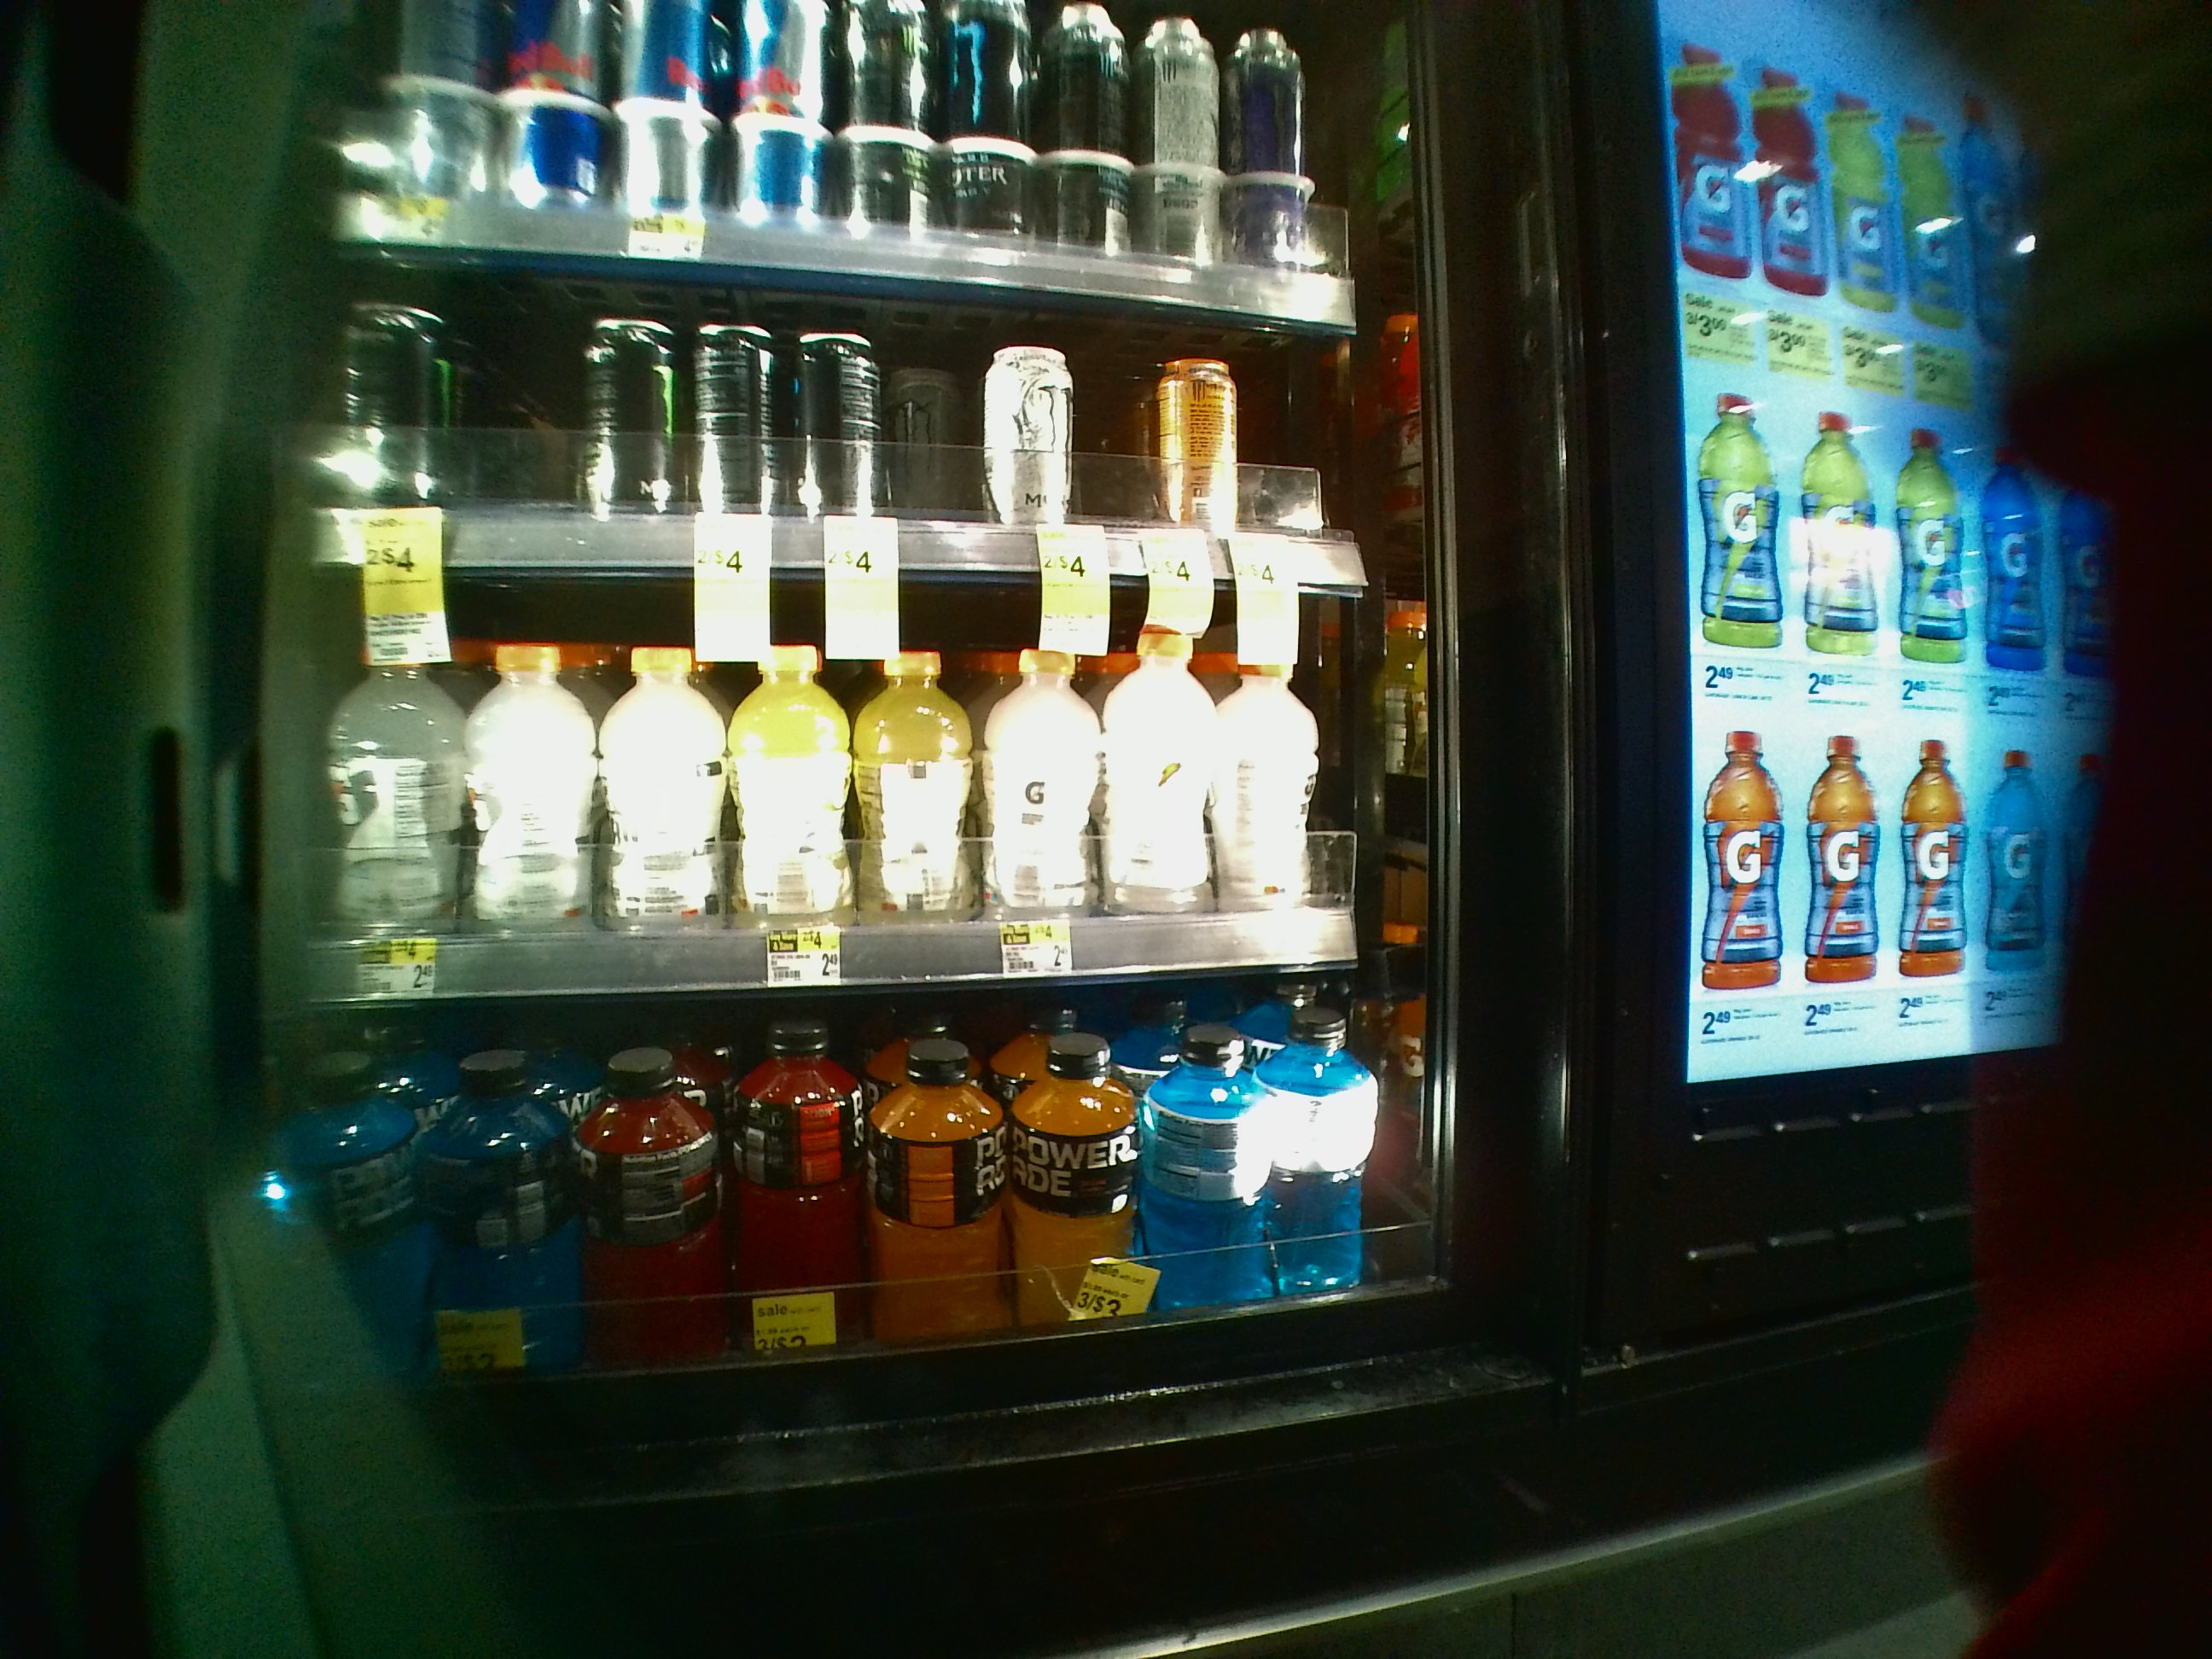shelf: (303, 563, 1446, 979)
